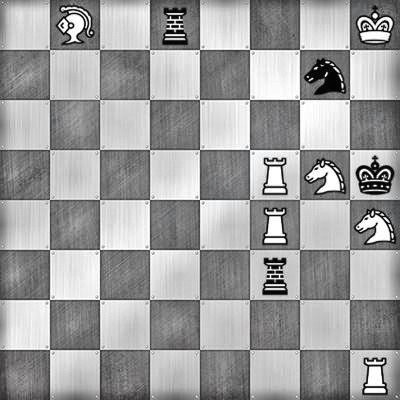black-king: (350, 150, 400, 200)
black-knight: (300, 50, 350, 100)
black-rook: (150, 0, 200, 50), (250, 250, 300, 300)
white-bishop: (50, 0, 100, 50)
white-king: (350, 0, 400, 50)
white-knight: (300, 150, 350, 200), (350, 200, 400, 250)
white-rook: (250, 150, 300, 200), (250, 200, 300, 250), (350, 350, 400, 400)
